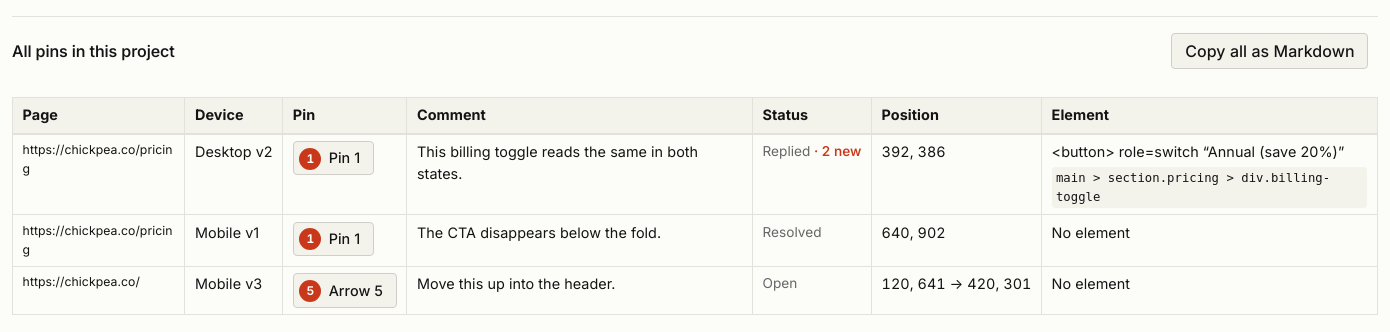
Scenario: arrows in the table (D083) › Copy all counts the arrow among the rows
Step 1. Click the button "Copy all as Markdown" → [1270, 51], box [1171,33,1368,69]
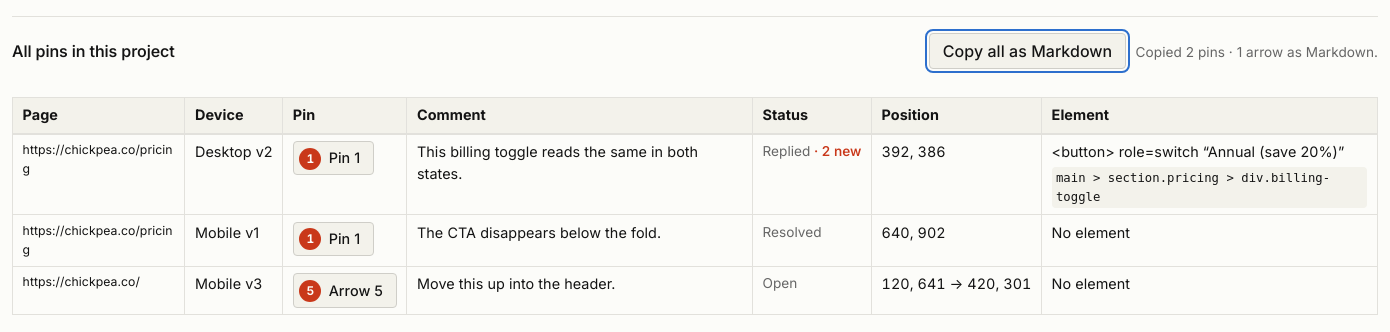
Now the message reads "Copied 2 pins · 1 arrow as Markdown.", box [1136,44,1378,60]
